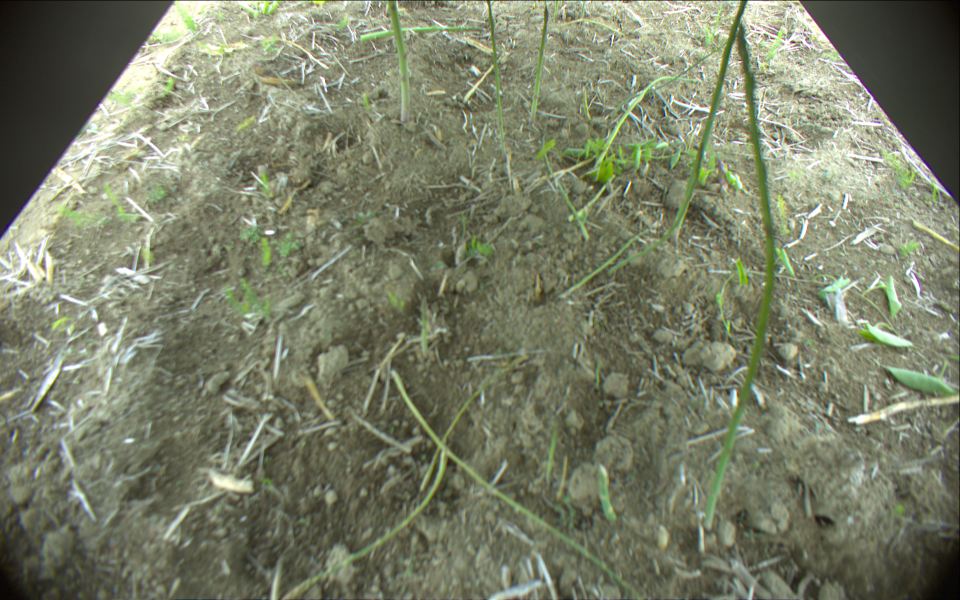aspa: (391, 371, 645, 600), (704, 22, 779, 530), (284, 451, 448, 600), (670, 1, 749, 239), (610, 142, 705, 276), (589, 72, 700, 177), (560, 222, 654, 300), (539, 130, 590, 240), (486, 1, 508, 160), (386, 1, 412, 124), (530, 1, 548, 130), (358, 23, 487, 40), (594, 463, 618, 527)
